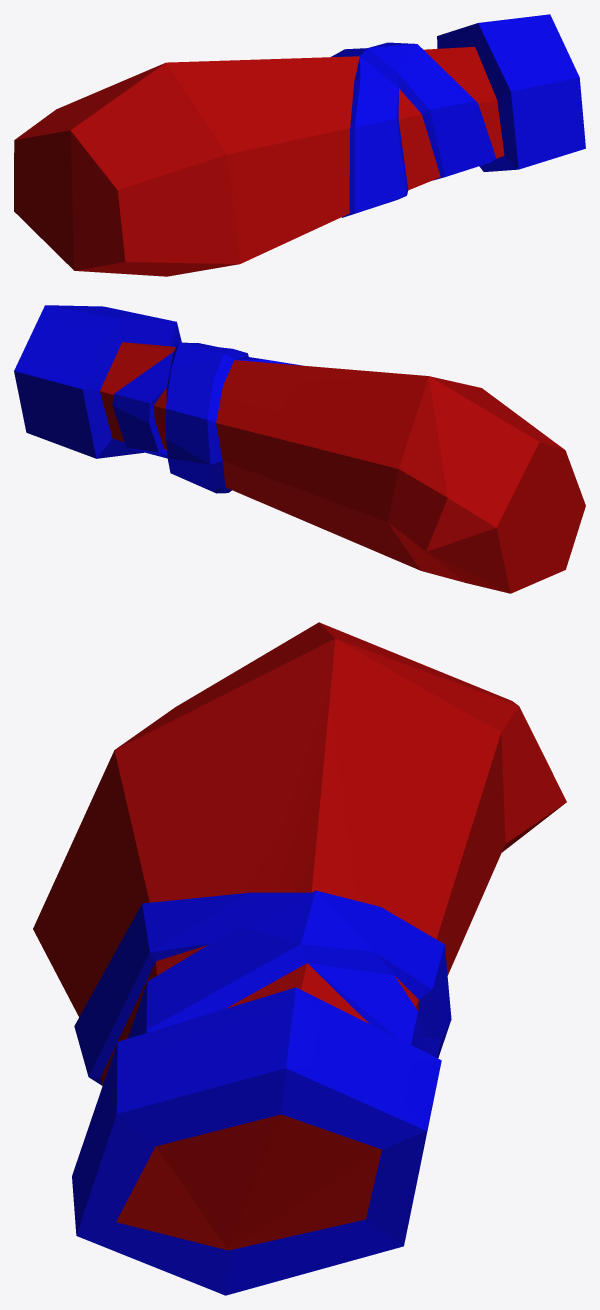
File: Chr_ArmLowerLeft_Male_Static_13.fbx
3 views of the same model, one above another, from view 1: azimuth 30°, elevation 25°; view 2: azimuth 150°, elevation 25°; view 3: azimuth 270°, elevation 25° (orthographic). The views are drawn at different scales.
Visible parts, largest first — view 1: Chr_ArmLowerLeft_Male_13; view 2: Chr_ArmLowerLeft_Male_13; view 3: Chr_ArmLowerLeft_Male_13.
Boxes of the visible parts, left/top/right/bottom form: Chr_ArmLowerLeft_Male_13: left=14, top=14, right=585, bottom=276; Chr_ArmLowerLeft_Male_13: left=14, top=305, right=585, bottom=593; Chr_ArmLowerLeft_Male_13: left=33, top=622, right=566, bottom=1295.
Size of the model in its own units: 28.96 by 10.92 by 13.71.
